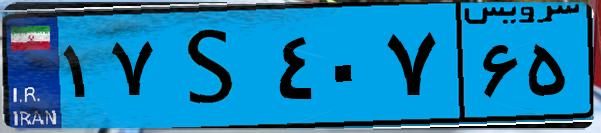0: (330, 28, 385, 110)
1: (57, 26, 110, 100)
4: (270, 28, 330, 110)
5: (525, 38, 570, 115)
6: (475, 38, 525, 113)
7: (385, 28, 445, 110), (110, 28, 158, 98)
S: (158, 12, 270, 120)
